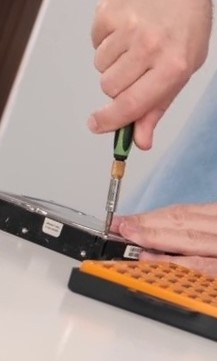screwdriver: (101, 75, 141, 235)
